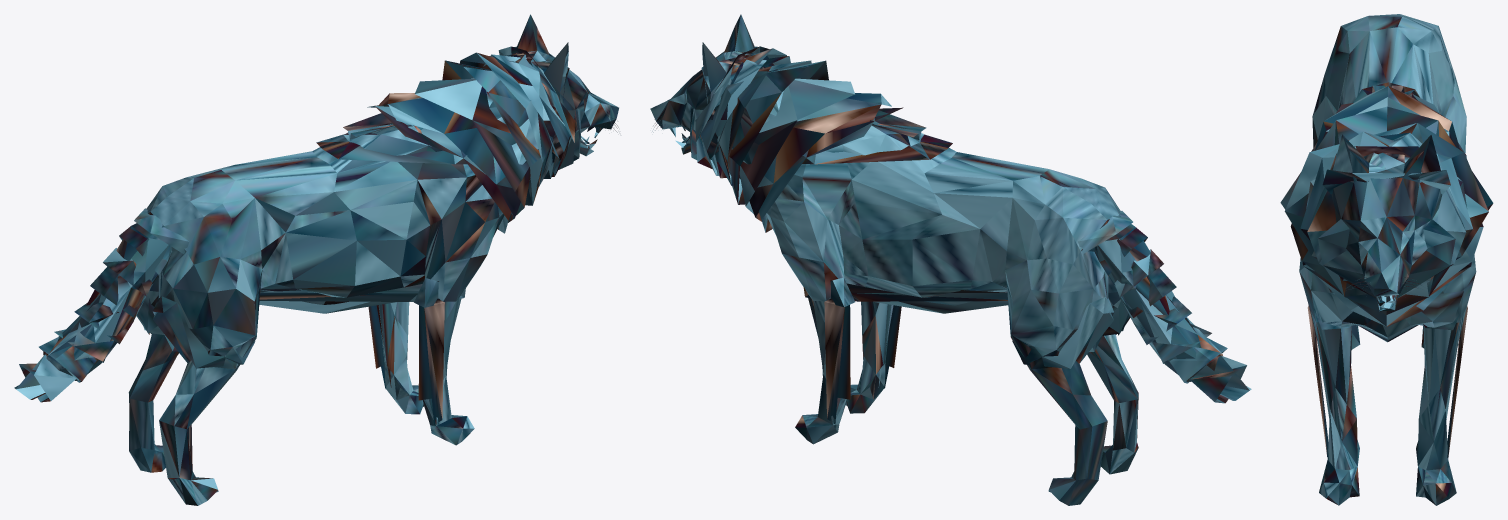
Rendered from wolf.gltf.
3 renders of one model, left to right at view 1: azimuth 30°, elevation 25°; view 2: azimuth 150°, elevation 25°; view 3: azimuth 270°, elevation 25°, orthographic. The views are drawn at different scales.
Parts seen in each view (by area): view 1: 3DSMeshMatrix, 3DSMeshMatrix.003; view 2: 3DSMeshMatrix, 3DSMeshMatrix.003; view 3: 3DSMeshMatrix, 3DSMeshMatrix.003, 3DSMeshMatrix.001.
Part boxes in pixels (x1,y1,x2,y2): 3DSMeshMatrix: [43, 14, 618, 505]; 3DSMeshMatrix.003: [14, 46, 580, 425]; 3DSMeshMatrix: [650, 14, 1222, 505]; 3DSMeshMatrix.003: [690, 46, 1251, 423]; 3DSMeshMatrix: [1299, 14, 1476, 505]; 3DSMeshMatrix.003: [1280, 82, 1493, 457]; 3DSMeshMatrix.001: [1347, 277, 1423, 308].
Bounding box in the file's own units: 14.54 × 8.46 × 3.81.
Materials: 1 (1 with a texture image).
